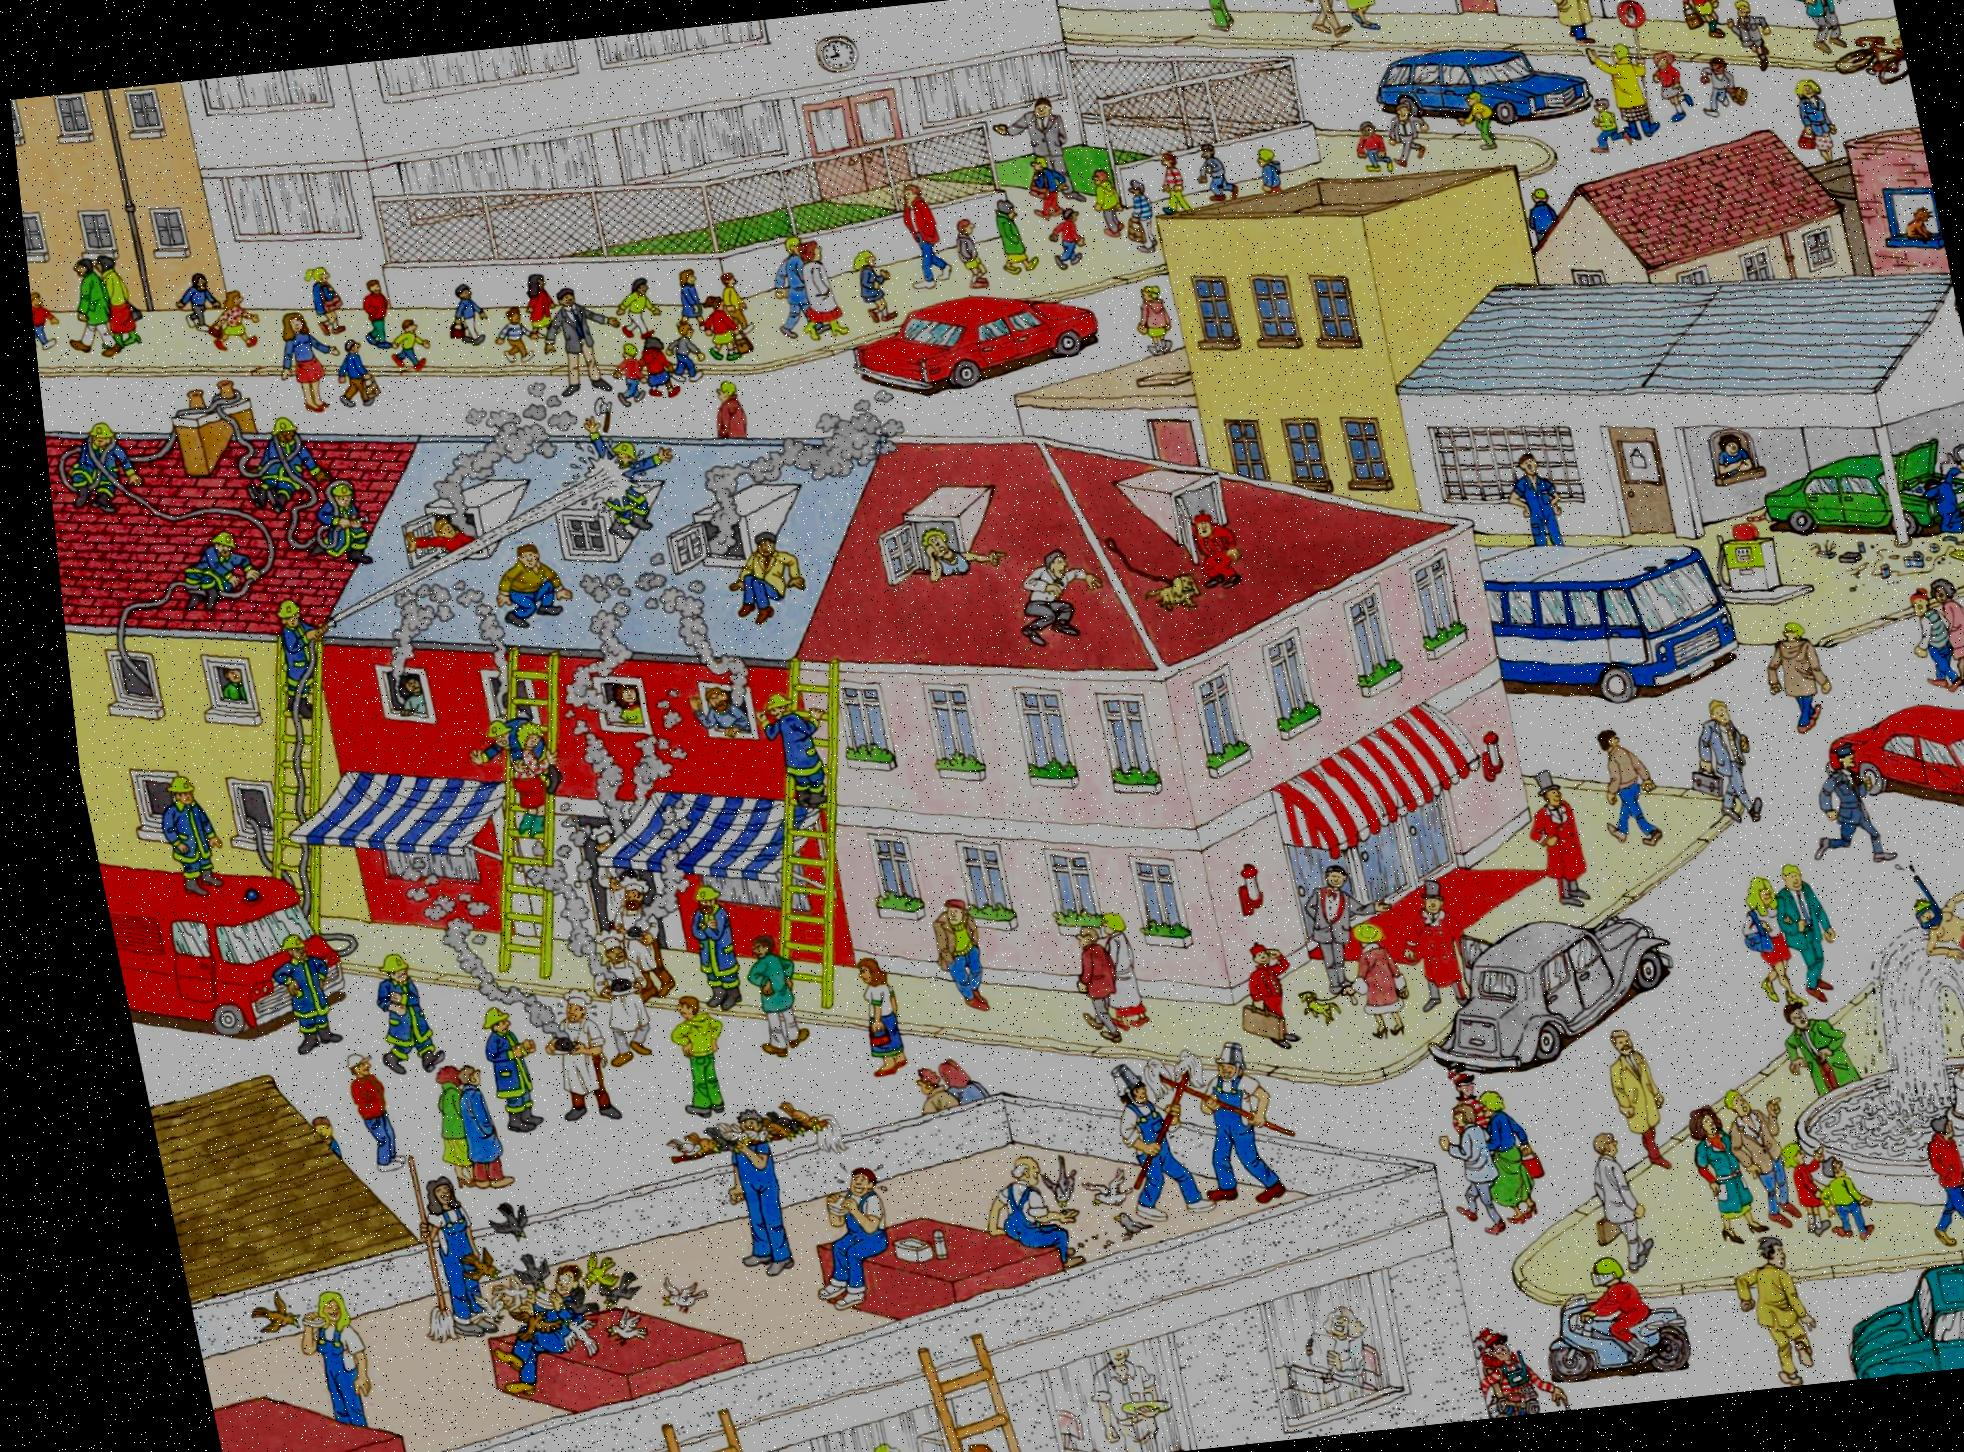waldo: (1446, 1325, 1484, 1362)
